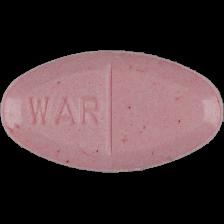50436-9933: (0, 0, 224, 224)
